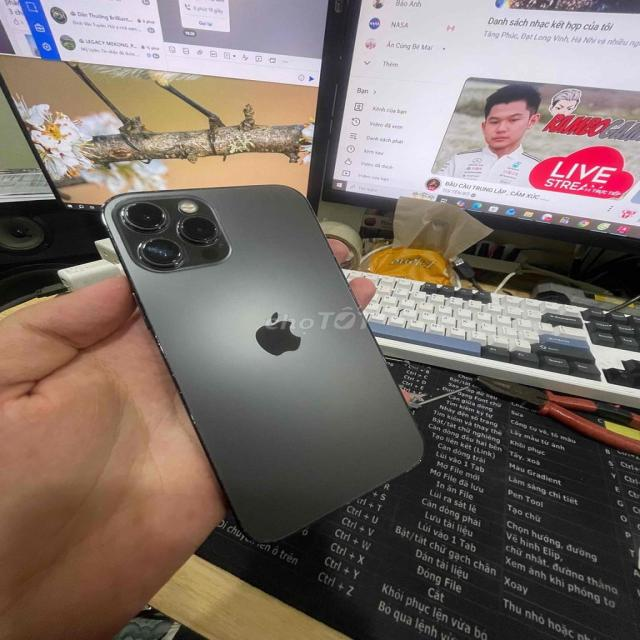gen_12_13: (100, 179, 428, 549)
